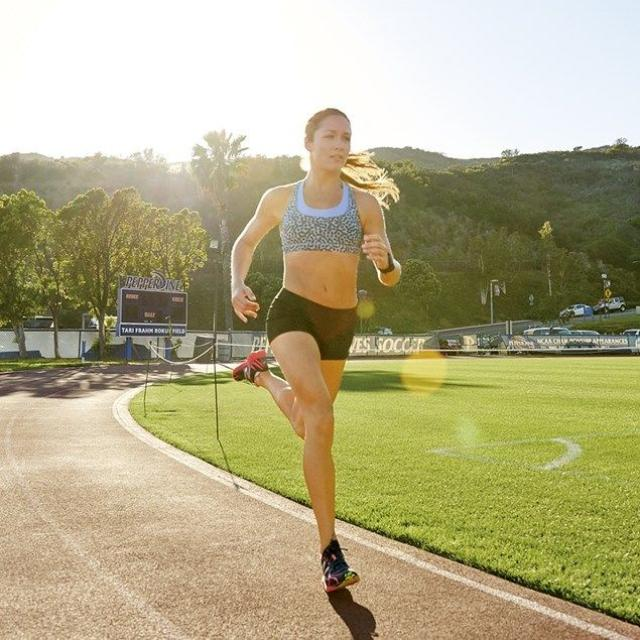running: (221, 99, 405, 596)
